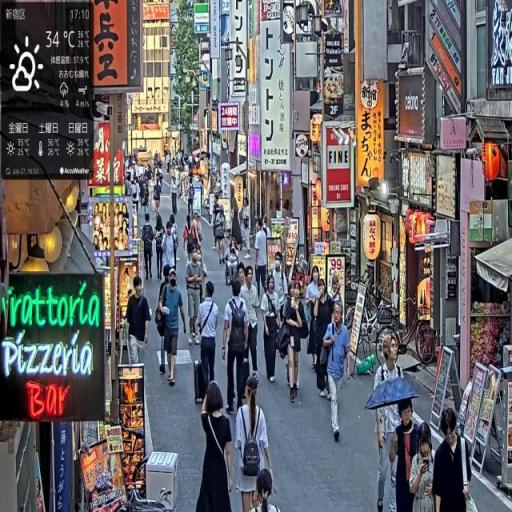person: (371, 334, 405, 512), (234, 374, 274, 512), (199, 380, 236, 512), (388, 396, 430, 512), (432, 401, 475, 512), (321, 301, 352, 446), (223, 277, 252, 418), (156, 267, 189, 388), (282, 281, 311, 406), (196, 280, 220, 401), (313, 279, 336, 401), (408, 422, 438, 512), (262, 274, 284, 389), (127, 275, 152, 374), (241, 267, 261, 388), (186, 245, 207, 342), (306, 263, 322, 369), (254, 218, 270, 307), (141, 214, 156, 283), (213, 198, 227, 266), (163, 224, 178, 279)
